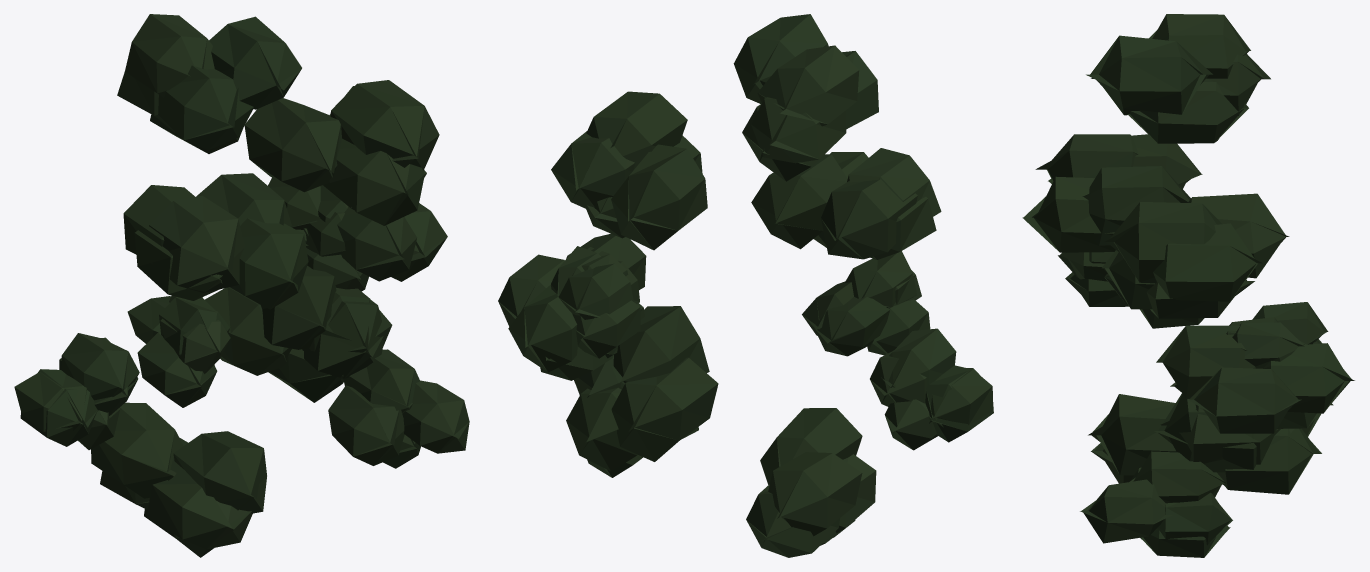
Rendered from tree_m17_far.obj.
The picture shows the model from 3 angles, left to right: view 1: azimuth 30°, elevation 25°; view 2: azimuth 150°, elevation 25°; view 3: azimuth 270°, elevation 25°; orthographic projection. The views are drawn at different scales.
Size of the model in its own units: 1.51 by 1.67 by 1.06.
Materials: 1 (1 with a texture image).
